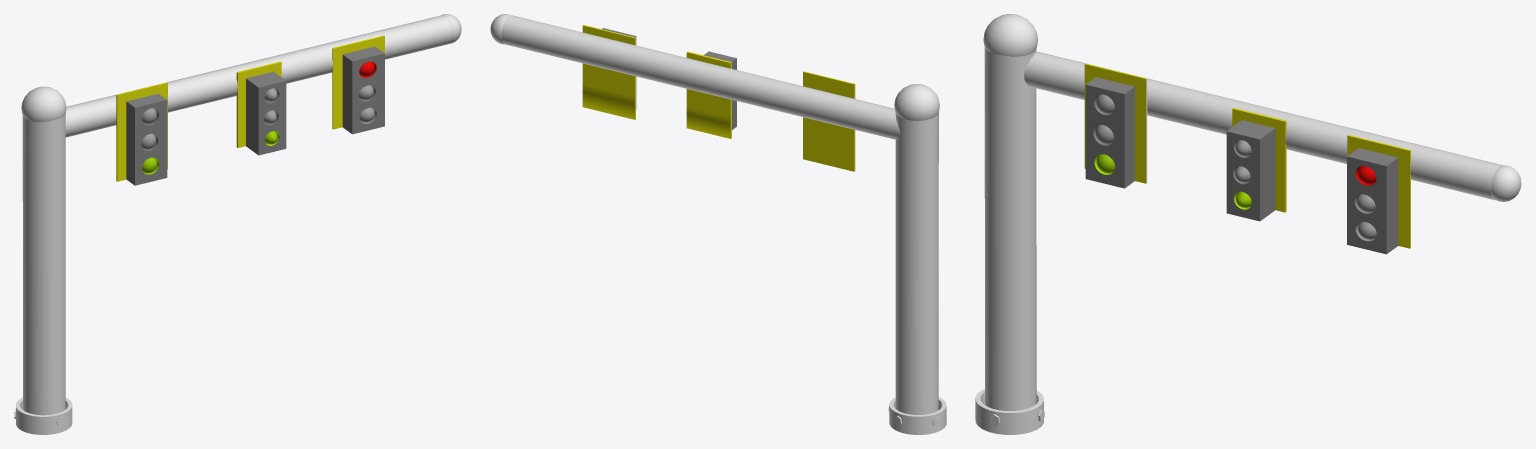
Rendered from light.gltf.
The picture shows the model from 3 angles, left to right: view 1: azimuth 30°, elevation 25°; view 2: azimuth 150°, elevation 25°; view 3: azimuth 330°, elevation 25°; orthographic projection. The views are drawn at different scales.
Parts seen in each view (by area): view 1: node_ID147_-20000, node_ID201_-20012, node_ID135_-19996, node_ID269_-20032, node_ID317_-20048, node_ID115_-19992, node_ID233_-20020, node_instance_1_-20070, node_ID209_-20014, node_ID257_-20028; view 2: node_ID147_-20000, node_ID201_-20012, node_ID115_-19992, node_ID233_-20020, node_ID257_-20028, node_instance_1_-20070, node_ID209_-20014; view 3: node_ID147_-20000, node_ID201_-20012, node_ID135_-19996, node_ID269_-20032, node_ID317_-20048, node_ID115_-19992, node_ID233_-20020, node_instance_1_-20070, node_ID209_-20014, node_ID257_-20028, node_instance_0_-20068.
Part boxes in pixels (left/top/right/bottom): node_ID147_-20000: left=22, top=114, right=65, bottom=415; node_ID201_-20012: left=65, top=15, right=451, bottom=137; node_ID135_-19996: left=126, top=93, right=167, bottom=185; node_ID269_-20032: left=342, top=46, right=384, bottom=134; node_ID317_-20048: left=246, top=71, right=286, bottom=155; node_ID115_-19992: left=116, top=82, right=167, bottom=181; node_ID233_-20020: left=332, top=35, right=384, bottom=129; node_instance_1_-20070: left=21, top=86, right=66, bottom=122; node_ID209_-20014: left=14, top=397, right=72, bottom=434; node_ID257_-20028: left=236, top=61, right=281, bottom=147; node_ID147_-20000: left=895, top=112, right=938, bottom=414; node_ID201_-20012: left=501, top=15, right=900, bottom=139; node_ID115_-19992: left=803, top=71, right=855, bottom=171; node_ID233_-20020: left=582, top=25, right=635, bottom=119; node_ID257_-20028: left=686, top=51, right=731, bottom=138; node_instance_1_-20070: left=894, top=84, right=939, bottom=120; node_ID209_-20014: left=888, top=397, right=946, bottom=434; node_ID147_-20000: left=984, top=47, right=1036, bottom=410; node_ID201_-20012: left=1024, top=51, right=1503, bottom=200; node_ID135_-19996: left=1085, top=77, right=1134, bottom=188; node_ID269_-20032: left=1347, top=148, right=1398, bottom=254; node_ID317_-20048: left=1226, top=120, right=1275, bottom=221; node_ID115_-19992: left=1084, top=63, right=1146, bottom=183; node_ID233_-20020: left=1347, top=135, right=1410, bottom=248; node_instance_1_-20070: left=983, top=14, right=1037, bottom=56; node_ID209_-20014: left=975, top=389, right=1044, bottom=434; node_ID257_-20028: left=1232, top=108, right=1286, bottom=212; node_instance_0_-20068: left=1491, top=165, right=1521, bottom=201.
Bounding box in the file's own units: 0.4283 × 0.3075 × 0.0583.
